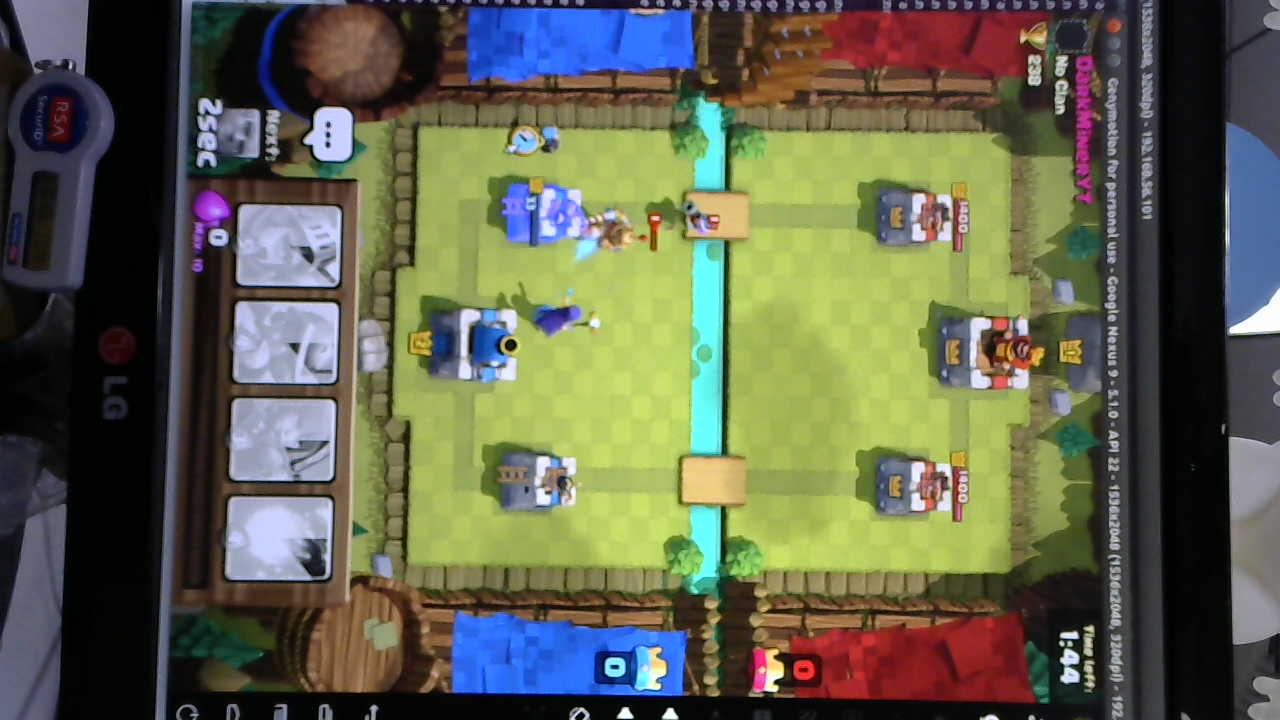arena: (496, 450, 581, 516), (504, 180, 588, 243)
bomb: (533, 118, 565, 153)
earena: (873, 187, 954, 250), (873, 459, 954, 517)
eking: (935, 312, 1044, 390)
king: (425, 302, 525, 385)
musketeer: (675, 198, 712, 239)
prince: (581, 209, 646, 252)
witch: (537, 301, 602, 336)
